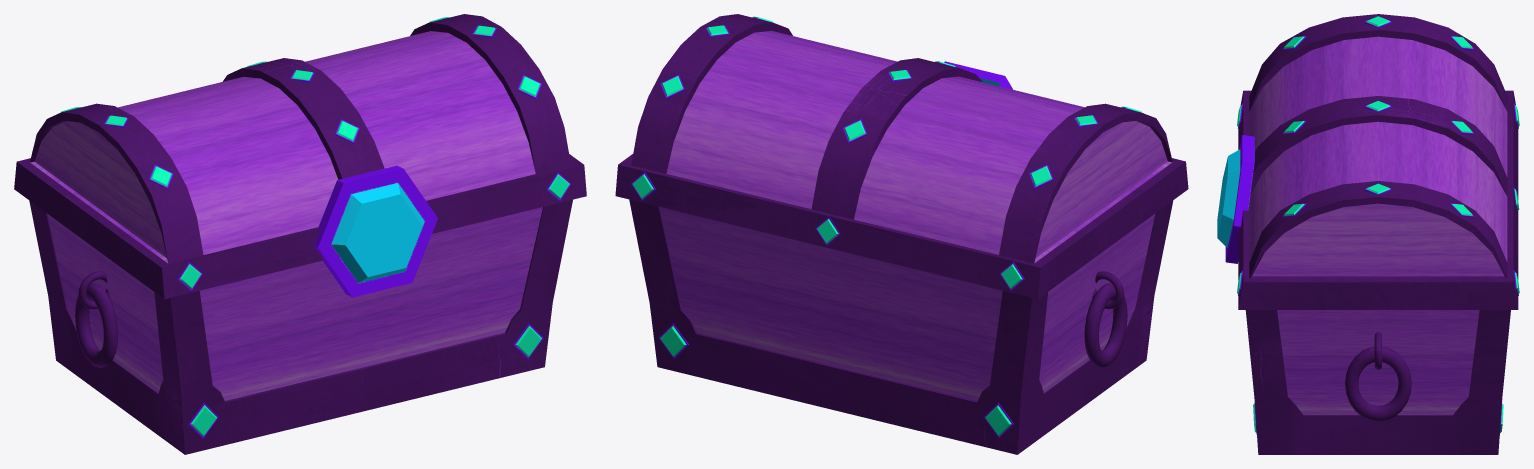
The model's file is ChestStable 1.fbx.
3 views of the same model, side by side, from view 1: azimuth 30°, elevation 25°; view 2: azimuth 150°, elevation 25°; view 3: azimuth 270°, elevation 25° (orthographic). The views are drawn at different scales.
Parts seen in each view (by area): view 1: chest top, chest low; view 2: chest top, chest low; view 3: chest top, chest low.
Part boxes in pixels (left/top/right/bottom): chest top: left=14, top=14, right=586, bottom=299; chest low: left=29, top=199, right=572, bottom=454; chest top: left=615, top=14, right=1188, bottom=298; chest low: left=629, top=199, right=1173, bottom=454; chest top: left=1217, top=14, right=1519, bottom=309; chest low: left=1245, top=310, right=1510, bottom=454.
Size of the model in its own units: 426 by 266 by 271.
4 materials, 3 textured.
